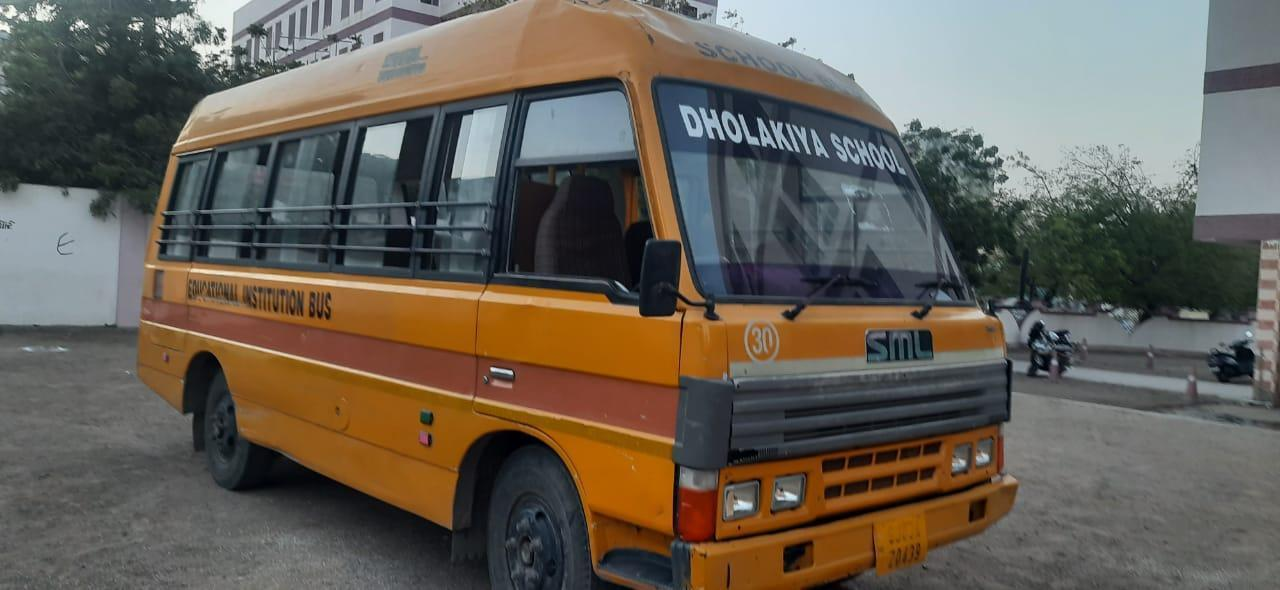Bus: (125, 29, 1032, 579)
